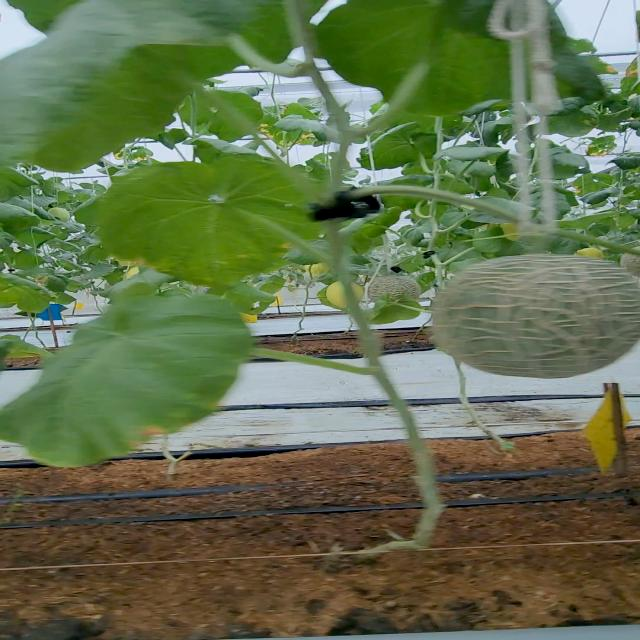Front-melon: (429, 257, 638, 379)
Rear-melon: (367, 274, 417, 302)
